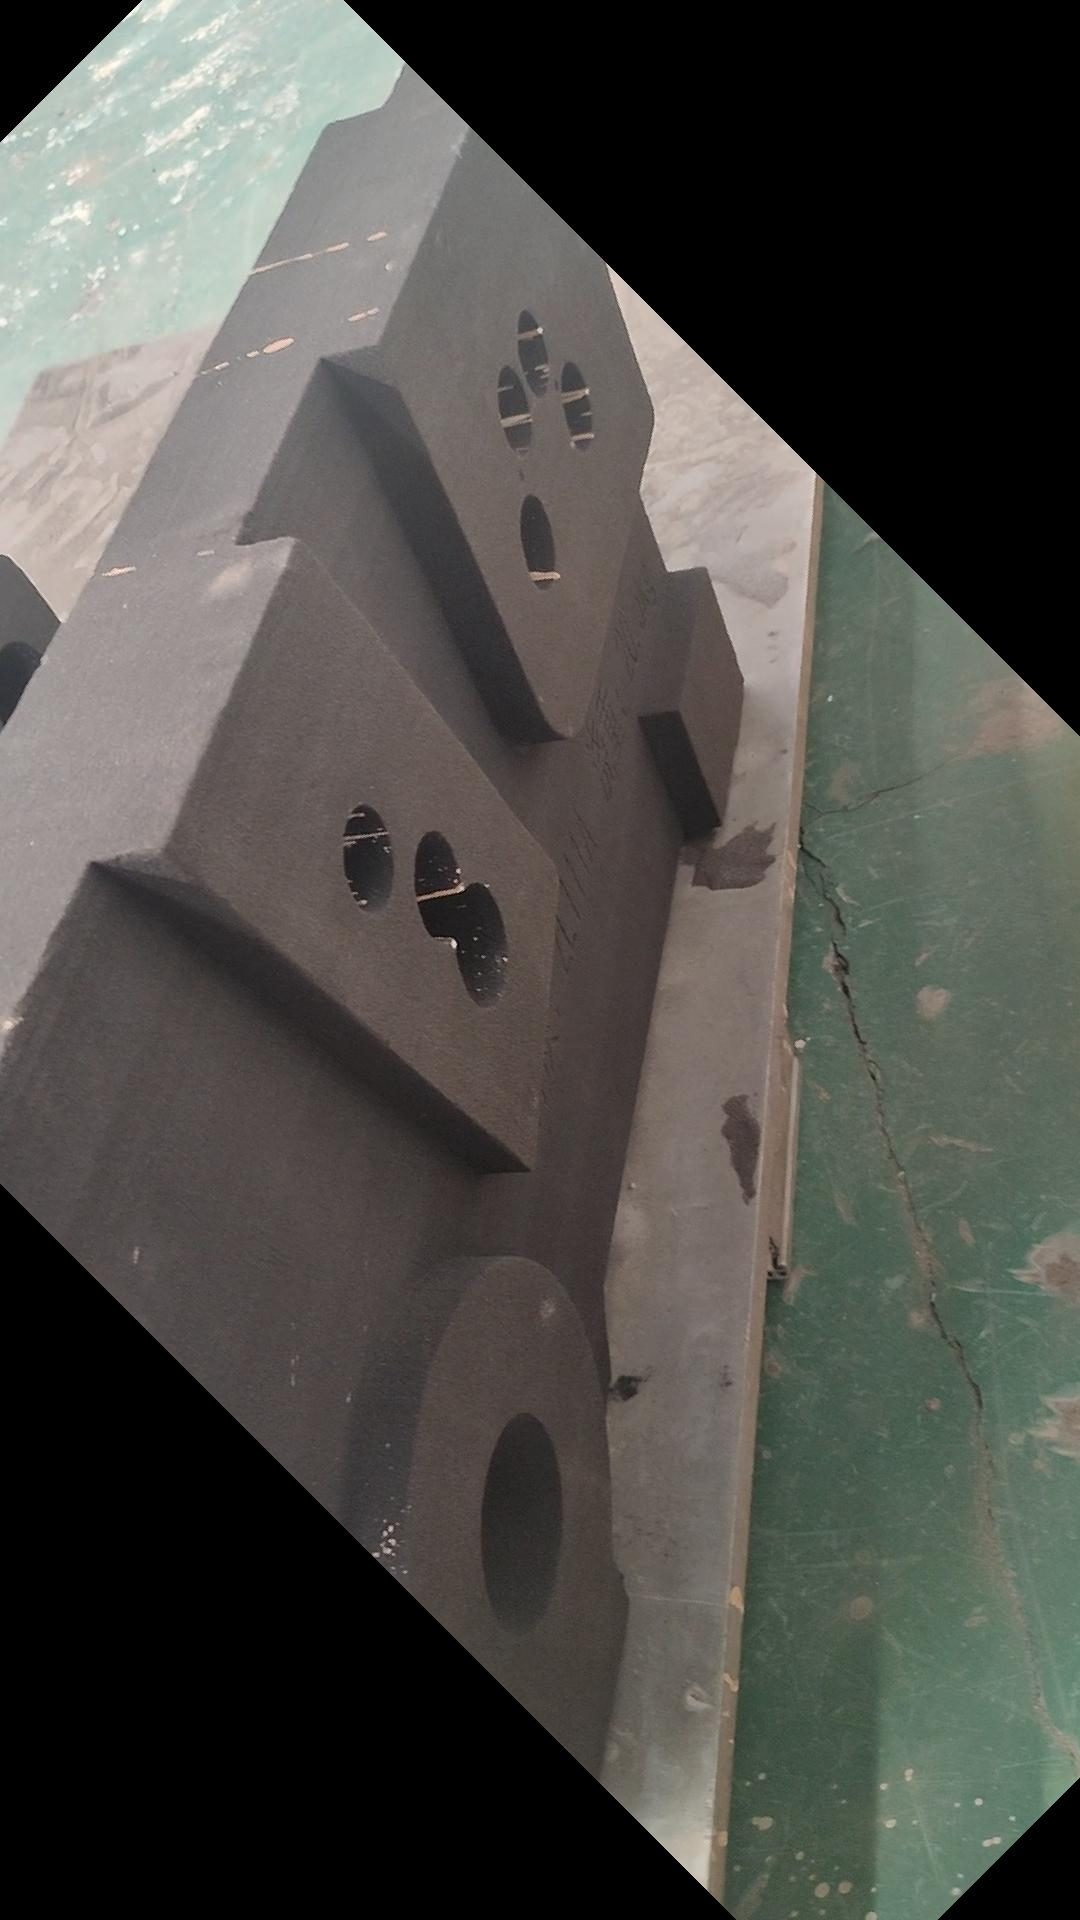pouring hole: (480, 1415, 567, 1631)
